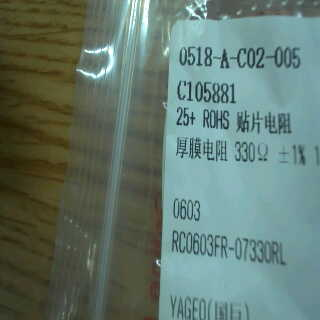330R: (232, 137, 273, 164)
